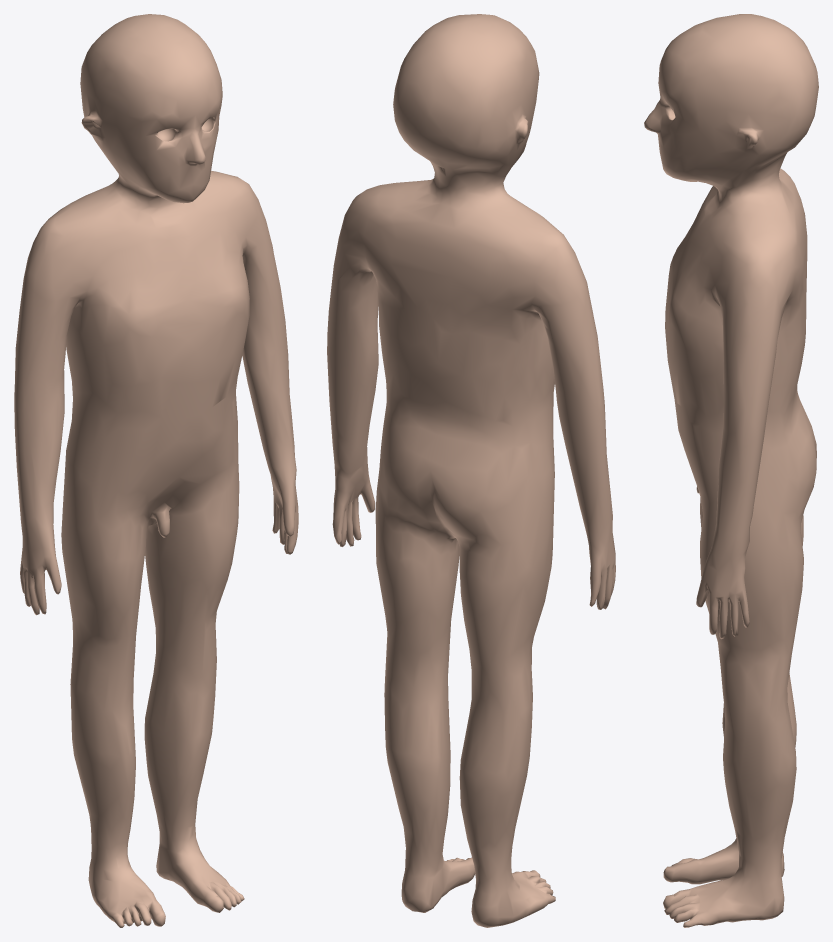
The model's file is pediatric_child_5y_male.surface.LOD2.glb.
3 renders of one model, left to right at view 1: azimuth 30°, elevation 25°; view 2: azimuth 150°, elevation 25°; view 3: azimuth 270°, elevation 25°, orthographic.
Visible parts, largest first — view 1: PEDIATRIC.CHILD_5Y.MALE.SURFACE.SKIN; view 2: PEDIATRIC.CHILD_5Y.MALE.SURFACE.SKIN; view 3: PEDIATRIC.CHILD_5Y.MALE.SURFACE.SKIN.
Boxes of the visible parts, left/top/right/bottom form: PEDIATRIC.CHILD_5Y.MALE.SURFACE.SKIN: left=14, top=14, right=298, bottom=927; PEDIATRIC.CHILD_5Y.MALE.SURFACE.SKIN: left=327, top=14, right=615, bottom=927; PEDIATRIC.CHILD_5Y.MALE.SURFACE.SKIN: left=644, top=14, right=818, bottom=927.
Bounding box in the file's own units: 0.353 × 1.09 × 0.1968.
